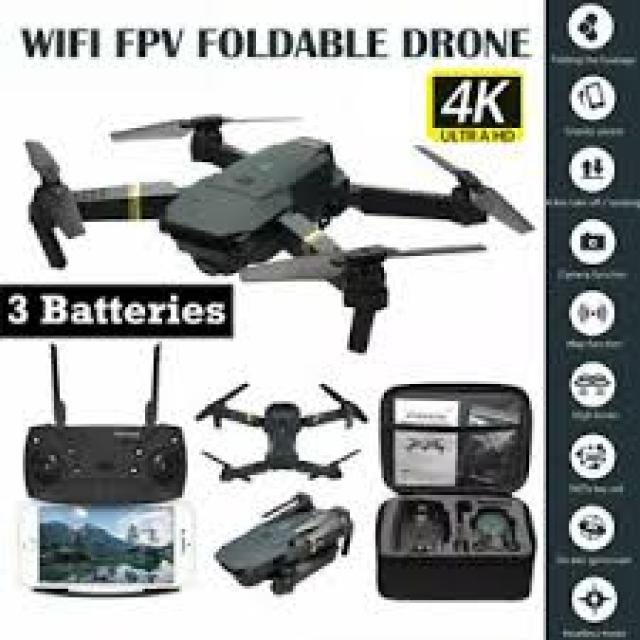drone: (17, 98, 539, 360), (199, 378, 369, 493)
